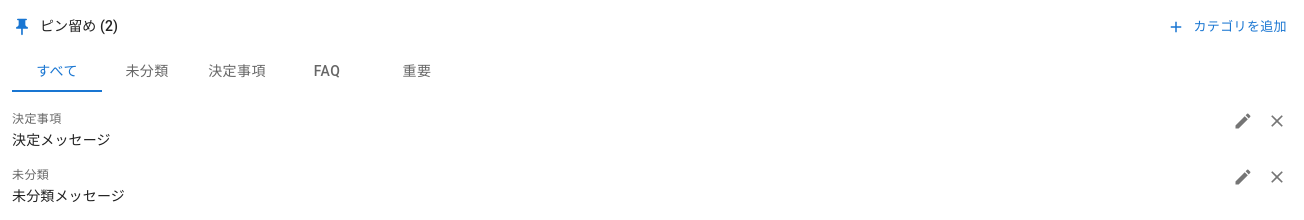
Test case: PinnedMessages › カテゴリタブによる絞り込み › カテゴリタブを選ぶと該当カテゴリのピンだけを表示する
Click the tab "決定事項" at (237, 72), box [192,51,282,92]
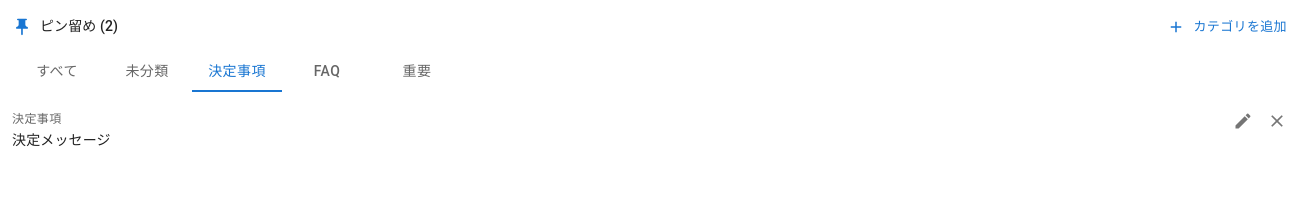
Expected: the text "決定メッセージ" is shown, [12,132,111,148]
Result: the text "未分類メッセージ" is gone
